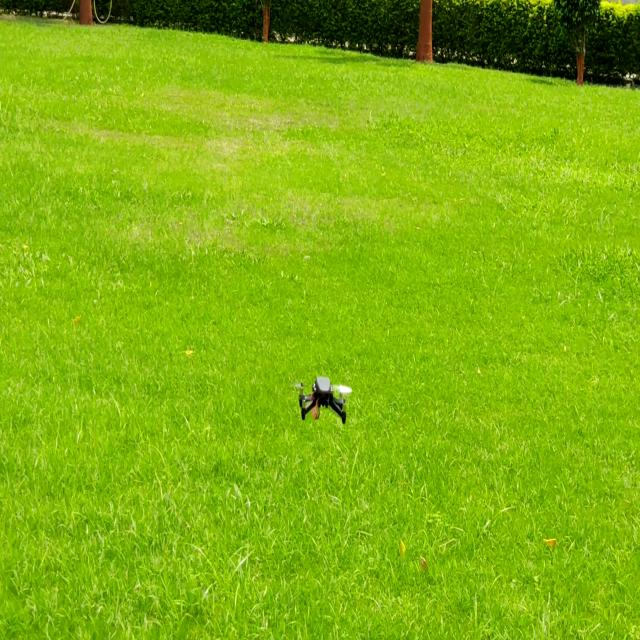drone: (290, 359, 359, 434)
